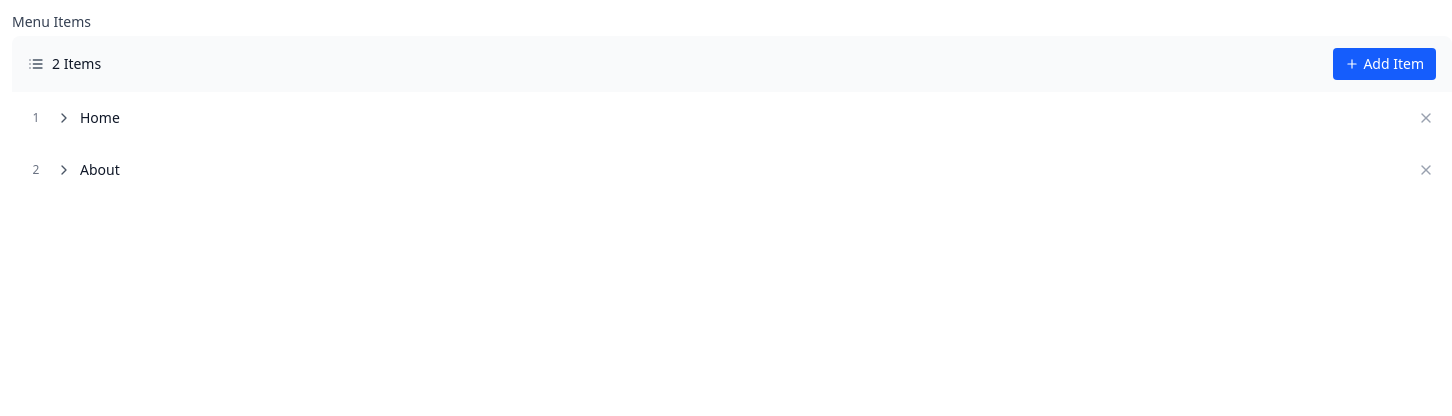
Test: ItemsListField › expands and collapses items
The width and height of the screenshot is (1452, 416).
Click to expand
Click the button "Home" at [100, 118], box [48,104,1420,132]
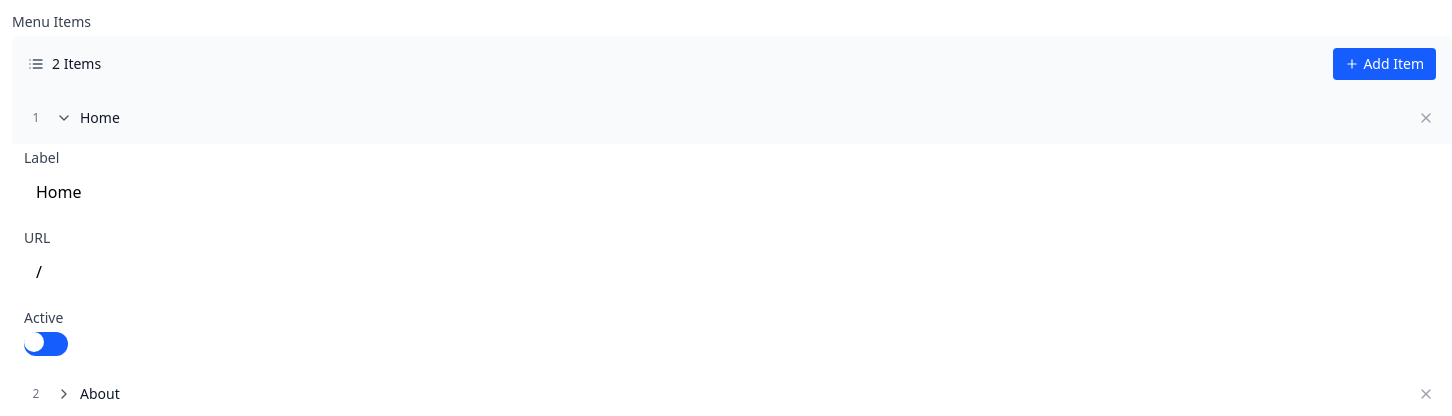
expect the button "Home" is expanded: met, box [48,104,1420,132]
